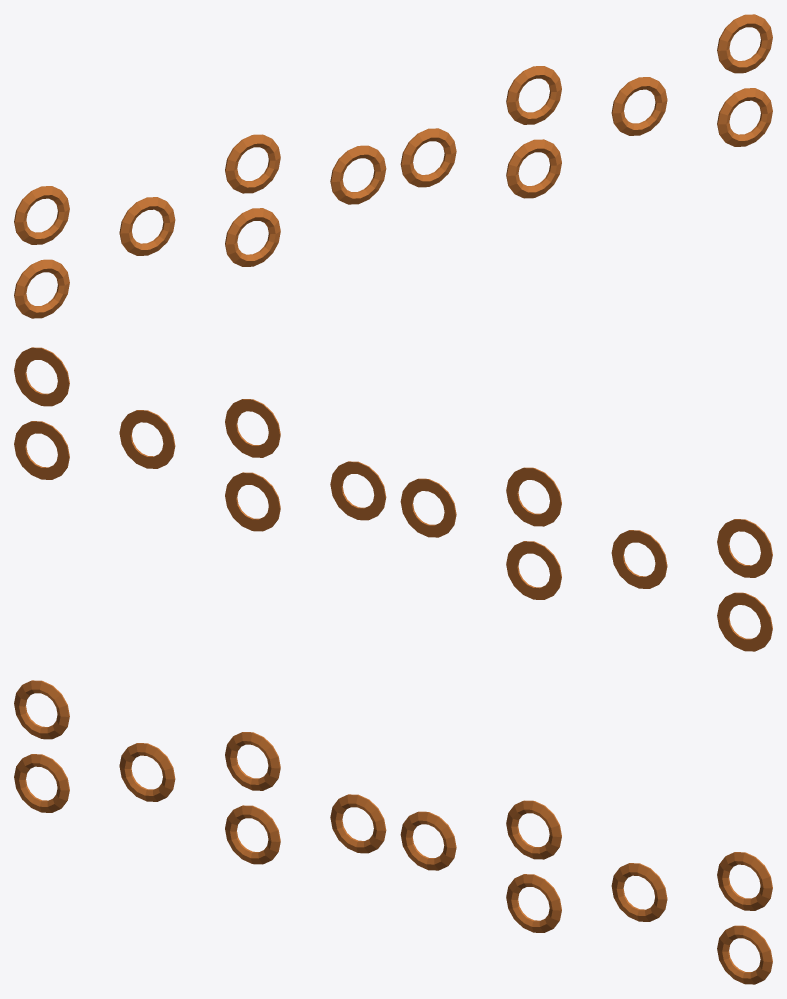
File: ArrowHoleFBX.fbx
3 renders of one model, top to bottom at view 1: azimuth 30°, elevation 25°; view 2: azimuth 150°, elevation 25°; view 3: azimuth 330°, elevation 25°, orthographic.
Visible parts, largest first — view 1: ArrowHoles; view 2: ArrowHoles; view 3: ArrowHoles.
Boxes of the visible parts, left/top/right/bottom form: ArrowHoles: left=14, top=14, right=772, bottom=318; ArrowHoles: left=14, top=347, right=772, bottom=651; ArrowHoles: left=14, top=680, right=772, bottom=984.
Size of the model in its own units: 539 by 89.24 by 3.13.
